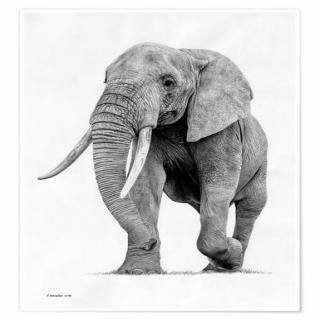Elephant: (32, 38, 281, 278)
